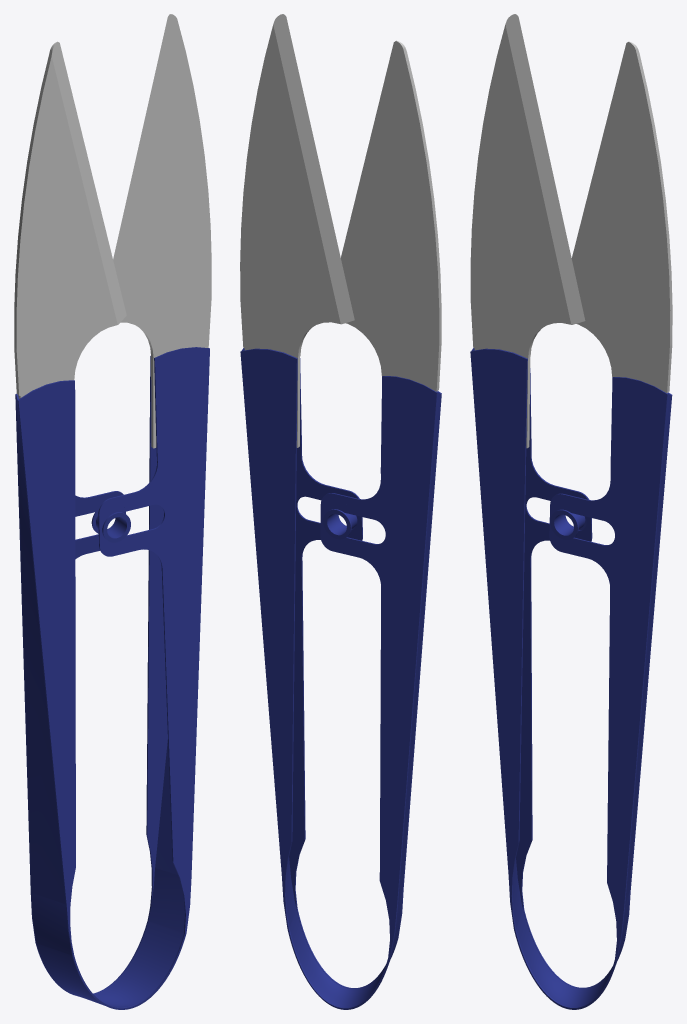
The model's file is Componente1 v4.fbx.
The picture shows the model from 3 angles, left to right: view 1: azimuth 30°, elevation 25°; view 2: azimuth 150°, elevation 25°; view 3: azimuth 330°, elevation 25°; orthographic projection.
Visible parts, largest first — view 1: Body1 (×4), Body3, Body2; view 2: Body1 (×4), Body3, Body2; view 3: Body1 (×4), Body3, Body2.
Boxes of the visible parts, bbox=[...] form: Body1 (×4): bbox=[14, 14, 211, 933]; Body3: bbox=[15, 380, 125, 955]; Body2: bbox=[35, 921, 186, 1009]; Body1 (×4): bbox=[240, 14, 441, 928]; Body3: bbox=[320, 376, 441, 958]; Body2: bbox=[287, 908, 398, 1009]; Body1 (×4): bbox=[470, 14, 672, 959]; Body3: bbox=[470, 348, 592, 929]; Body2: bbox=[514, 910, 624, 1009].
Size of the model in its own units: 24.88 by 117 by 6.2.
